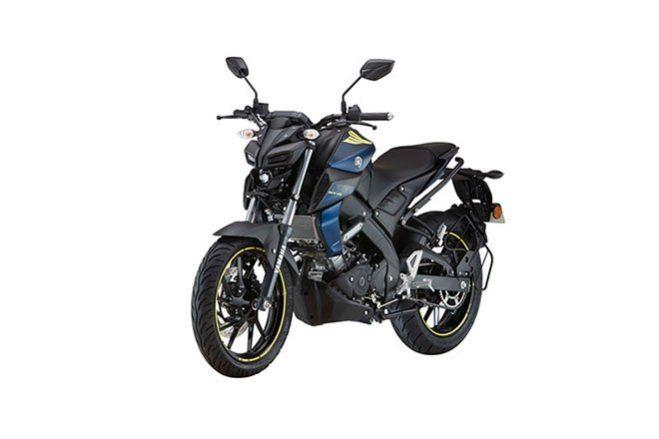motorbike: (190, 59, 508, 378)
